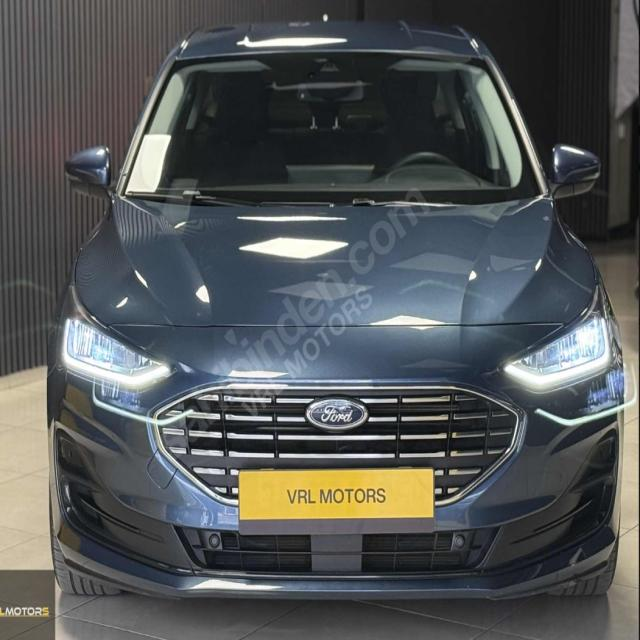ford: (306, 394, 370, 432)
